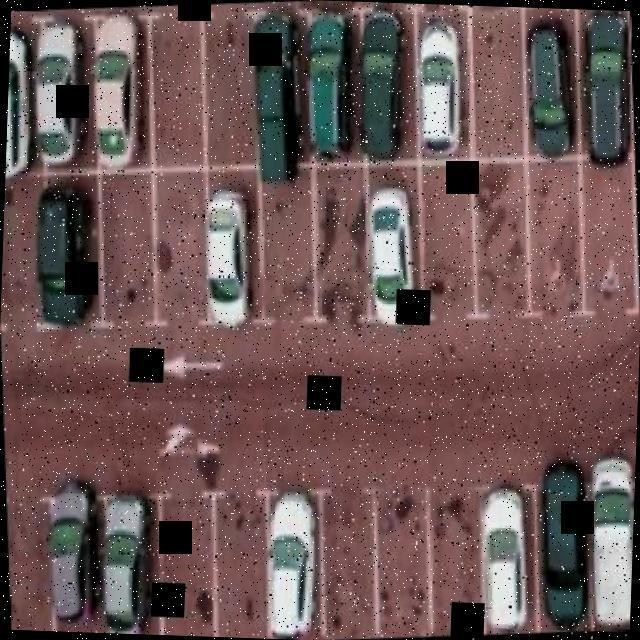car: (248, 8, 310, 171), (258, 480, 326, 628), (192, 167, 256, 323), (354, 6, 418, 162), (91, 4, 151, 168), (26, 170, 94, 308), (296, 3, 355, 156), (95, 488, 156, 634), (28, 30, 88, 166), (408, 7, 463, 150), (42, 504, 102, 632), (533, 464, 584, 612), (469, 488, 524, 620), (361, 191, 418, 314), (524, 14, 572, 151), (590, 465, 635, 608), (580, 24, 630, 140), (6, 49, 34, 158)
free: (200, 16, 262, 158), (97, 184, 157, 307), (471, 15, 520, 149), (223, 513, 276, 636), (158, 512, 212, 630), (473, 170, 526, 287), (158, 20, 205, 150), (378, 502, 428, 624), (261, 173, 310, 296), (317, 182, 363, 306), (156, 182, 198, 316), (5, 506, 48, 630), (587, 172, 634, 282), (427, 174, 471, 289), (534, 190, 580, 297), (324, 518, 368, 627), (431, 518, 473, 628), (0, 200, 35, 314)
